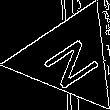N_NE: (34, 27, 104, 90)
